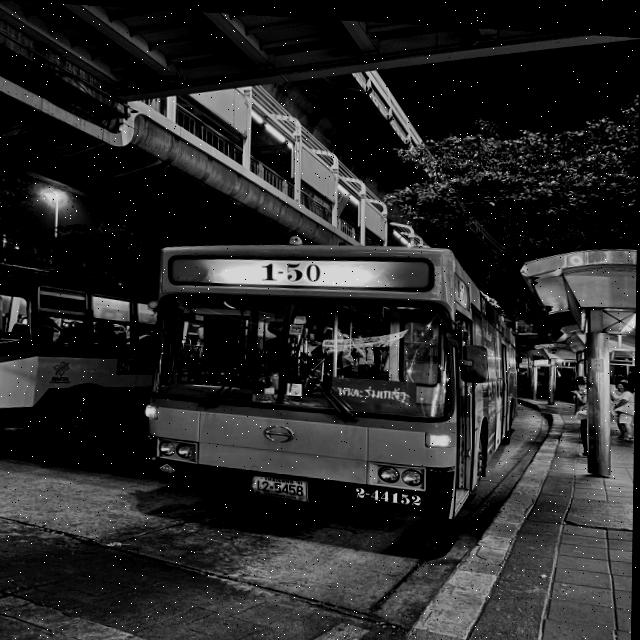BMTA-bus: (145, 230, 519, 516), (0, 262, 156, 454)
Bus-Line-Number: (256, 256, 328, 281)
Destination-Sign-Normal: (335, 372, 417, 412)
